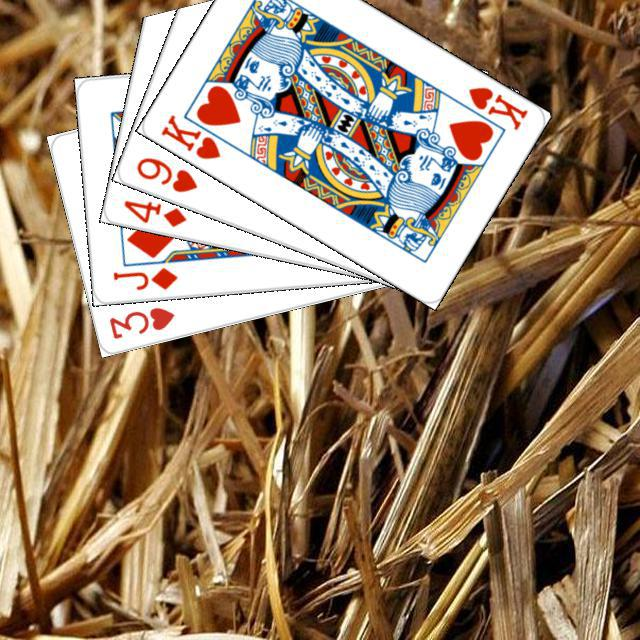3h: (104, 302, 177, 341)
4d: (119, 195, 188, 229)
9h: (131, 152, 200, 195)
Jd: (107, 262, 179, 292)
Kh: (156, 107, 236, 161), (463, 81, 530, 132)
